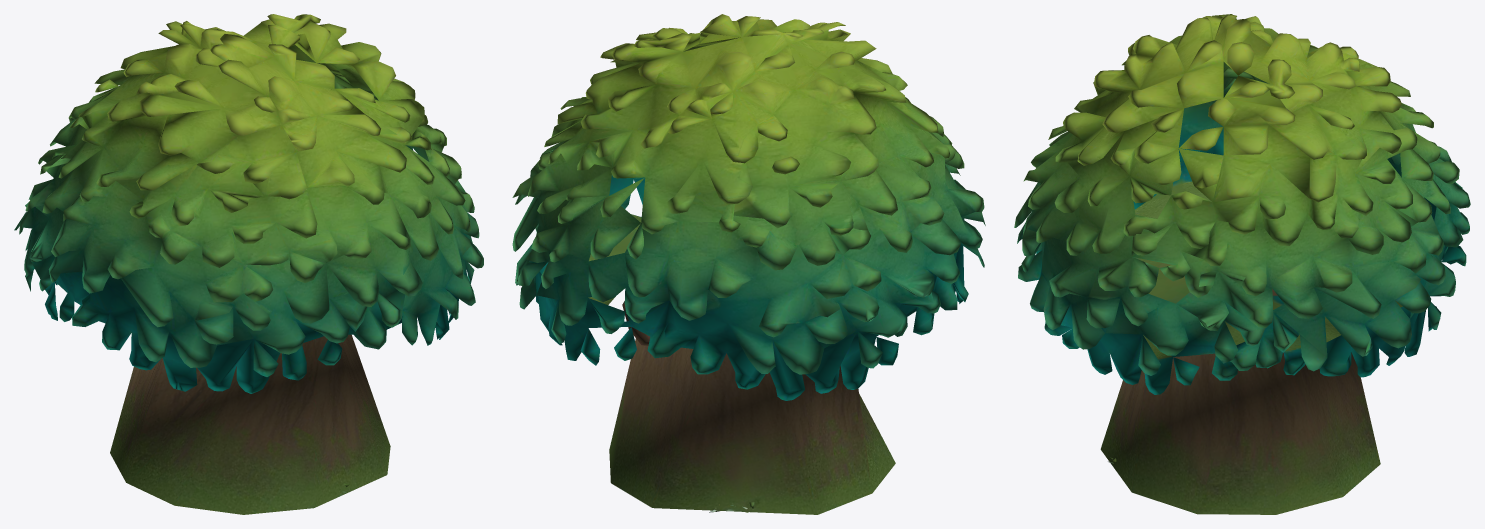
The model's file is tree_b9f9bb97.glb.
The picture shows the model from 3 angles, left to right: view 1: azimuth 30°, elevation 25°; view 2: azimuth 150°, elevation 25°; view 3: azimuth 270°, elevation 25°; orthographic projection. The views are drawn at different scales.
Parts seen in each view (by area): view 1: tripo_node_9630cddd-bf26-439e-ab1d-08d86fd49c4a; view 2: tripo_node_9630cddd-bf26-439e-ab1d-08d86fd49c4a; view 3: tripo_node_9630cddd-bf26-439e-ab1d-08d86fd49c4a.
Boxes of the visible parts, box(x1,y1,x2,y2) form: tripo_node_9630cddd-bf26-439e-ab1d-08d86fd49c4a: box(14, 14, 483, 514); tripo_node_9630cddd-bf26-439e-ab1d-08d86fd49c4a: box(512, 14, 985, 514); tripo_node_9630cddd-bf26-439e-ab1d-08d86fd49c4a: box(1014, 14, 1470, 514).
Bounding box in the file's own units: 0.9668 × 0.998 × 0.9707.
1 material, 1 textured.
